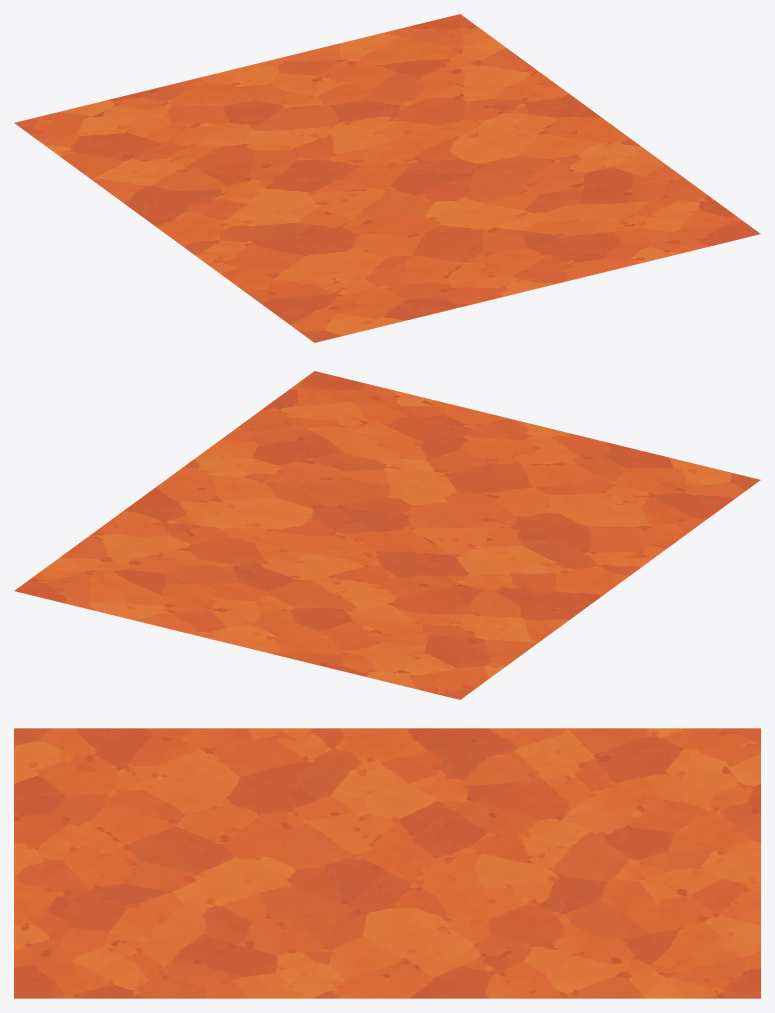
Rendered from OrangeSand-Sample.glb.
3 views of the same model, one above another, from view 1: azimuth 30°, elevation 25°; view 2: azimuth 150°, elevation 25°; view 3: azimuth 270°, elevation 25° (orthographic). The views are drawn at different scales.
Visible parts, largest first — view 1: Orange Sand Sample; view 2: Orange Sand Sample; view 3: Orange Sand Sample.
Part boxes in pixels (left/top/right/bottom): Orange Sand Sample: left=14, top=14, right=760, bottom=342; Orange Sand Sample: left=14, top=371, right=760, bottom=699; Orange Sand Sample: left=14, top=728, right=760, bottom=998.
Bounding box in the file's own units: 12 × 0.0178 × 14.
1 material, 1 textured.
